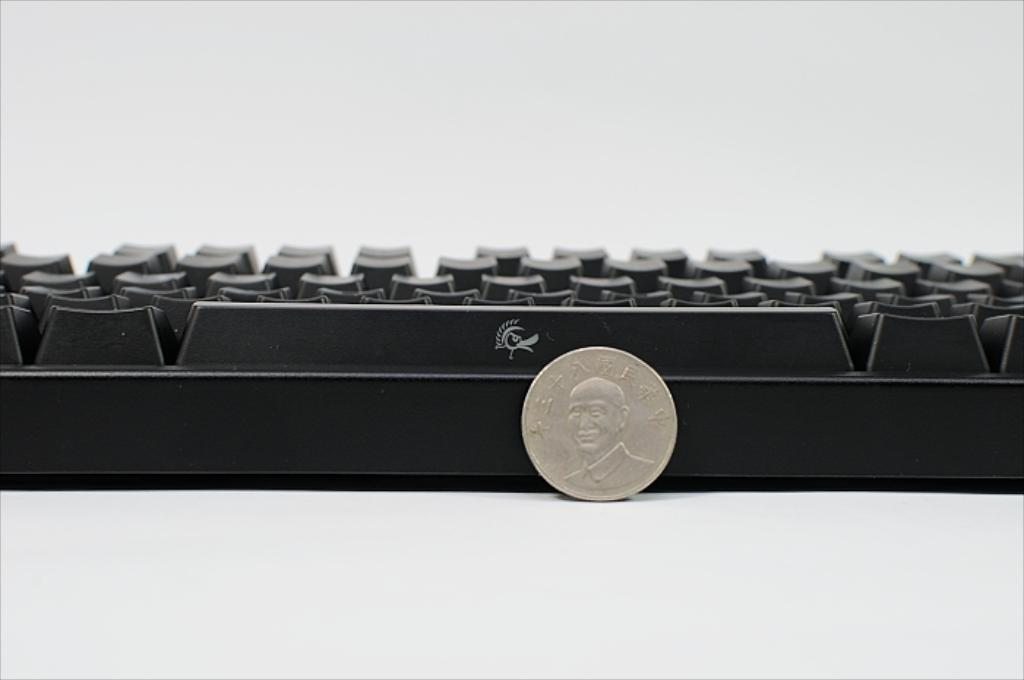Computer-keyboard: (0, 243, 1023, 493)
